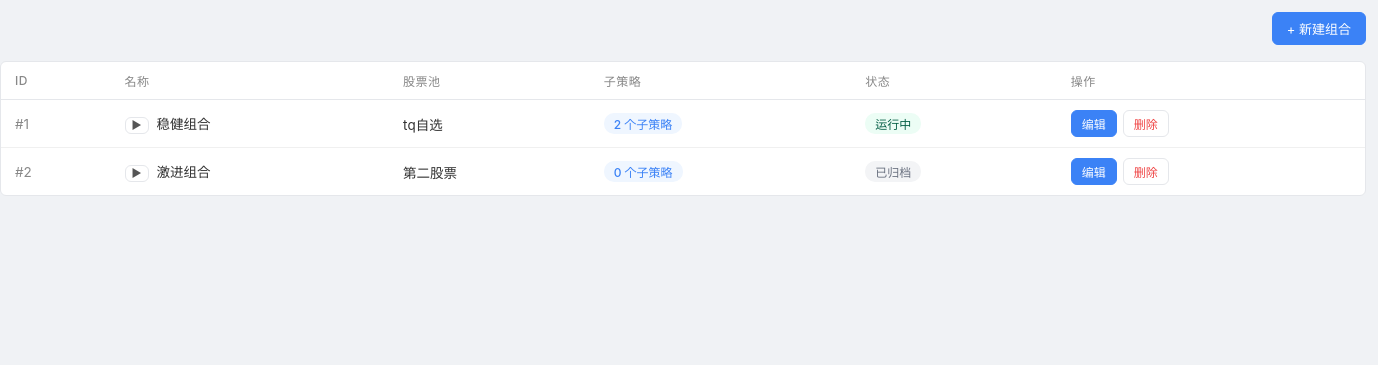
Test: Portfolios.vue — 组合列表（树状） › 再点展开按钮 → 折叠，子策略子行消失
Click the button with class "toggle-expand" next to "稳健组合": {"x": 137, "y": 126} [125, 117, 149, 134]
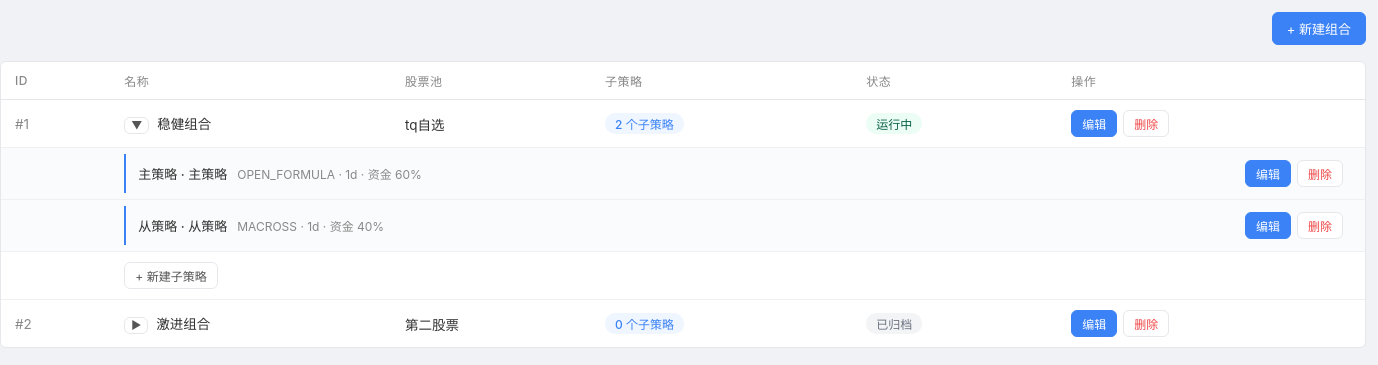
Check: the number of rows with class "strategy-sub-row" is 2, box [1, 148, 1365, 200]; [1, 200, 1365, 252]
Click the button with class "toggle-expand" showing "▼": {"x": 137, "y": 126} [124, 117, 150, 134]
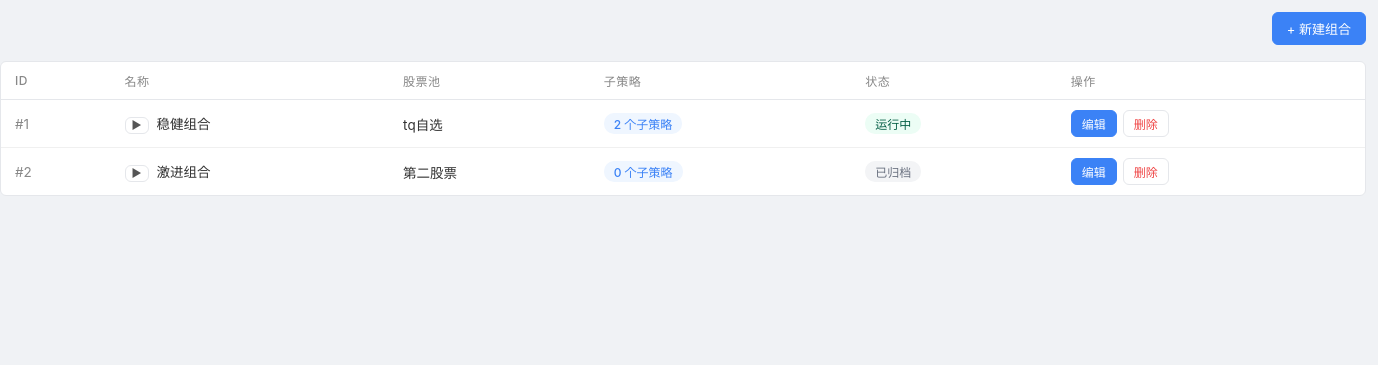
Check: no rows with class "strategy-sub-row" are shown
